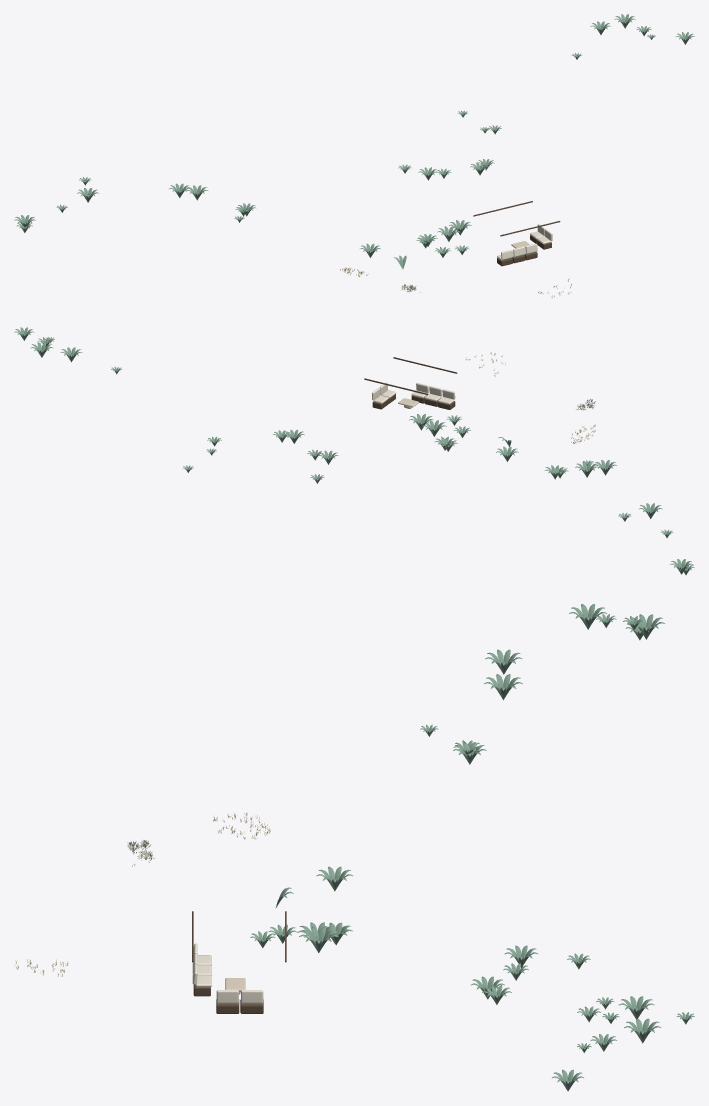
The model's file is detail-court-garden.glb.
The picture shows the model from 3 angles, top to bottom: view 1: azimuth 30°, elevation 25°; view 2: azimuth 150°, elevation 25°; view 3: azimuth 270°, elevation 25°; orthographic projection. The views are drawn at different scales.
Parts seen in each view (by area): view 1: core__blue sage agave leaf, core_retreat_clifftop__honey ash, core_retreat_clifftop__linen, core_retreat_roof_planting__core_retreat_liftaway_roof, core_retreat_roof_planting__core_estate_library_liftaway_roo; view 2: core__blue sage agave leaf, core_retreat_clifftop__linen, core_retreat_clifftop__honey ash, core_retreat_roof_planting__core_retreat_liftaway_roof, core_retreat_roof_planting__core_estate_library_liftaway_roo; view 3: core__blue sage agave leaf, core_retreat_clifftop__linen, core_retreat_roof_planting__core_estate_library_liftaway_roo, core_retreat_roof_planting__core_retreat_liftaway_roof, core_retreat_clifftop__honey ash.
Part boxes in pixels (x1,y1,x2,y2): core__blue sage agave leaf: (14, 14, 694, 232); core_retreat_clifftop__honey ash: (473, 201, 560, 266); core_retreat_clifftop__linen: (497, 224, 552, 260); core_retreat_roof_planting__core_retreat_liftaway_roof: (394, 220, 471, 269); core_retreat_roof_planting__core_estate_library_liftaway_roo: (169, 183, 256, 222); core__blue sage agave leaf: (14, 327, 694, 574); core_retreat_clifftop__linen: (372, 382, 455, 404); core_retreat_clifftop__honey ash: (364, 357, 457, 409); core_retreat_roof_planting__core_retreat_liftaway_roof: (409, 414, 511, 446); core_retreat_roof_planting__core_estate_library_liftaway_roo: (544, 460, 617, 479); core__blue sage agave leaf: (471, 604, 694, 1091); core_retreat_clifftop__linen: (192, 943, 263, 1004); core_retreat_roof_planting__core_estate_library_liftaway_roo: (420, 649, 522, 764); core_retreat_roof_planting__core_retreat_liftaway_roof: (250, 887, 338, 952); core_retreat_clifftop__honey ash: (192, 911, 286, 1013).
Size of the model in its own units: 50.64 by 7.01 by 26.72.
